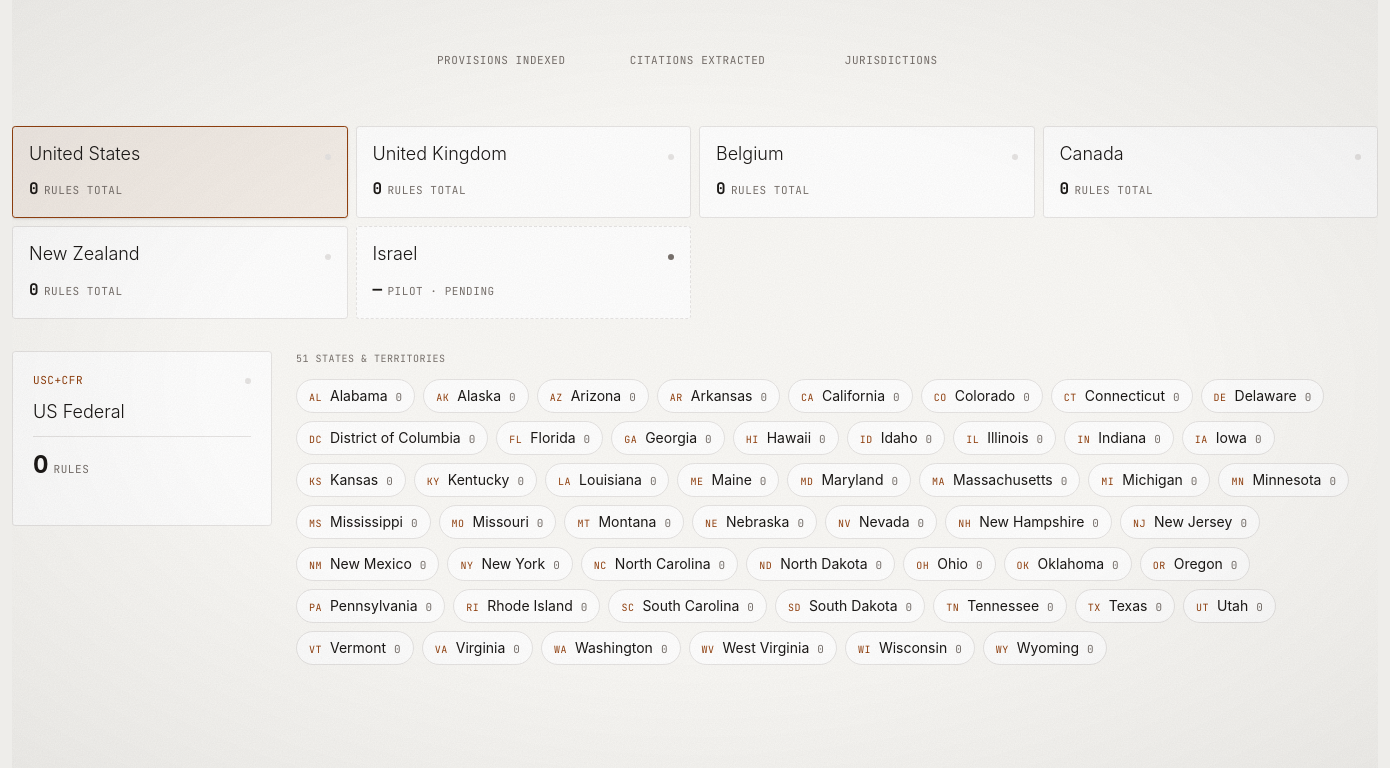
landing presentation for a pilot country without stats › keeps Israel pending while the stats request is still outstanding
The image size is (1390, 768).
Click the tab "Israel — pilot · pending".
click(395, 254)  # box [356,226,691,319]
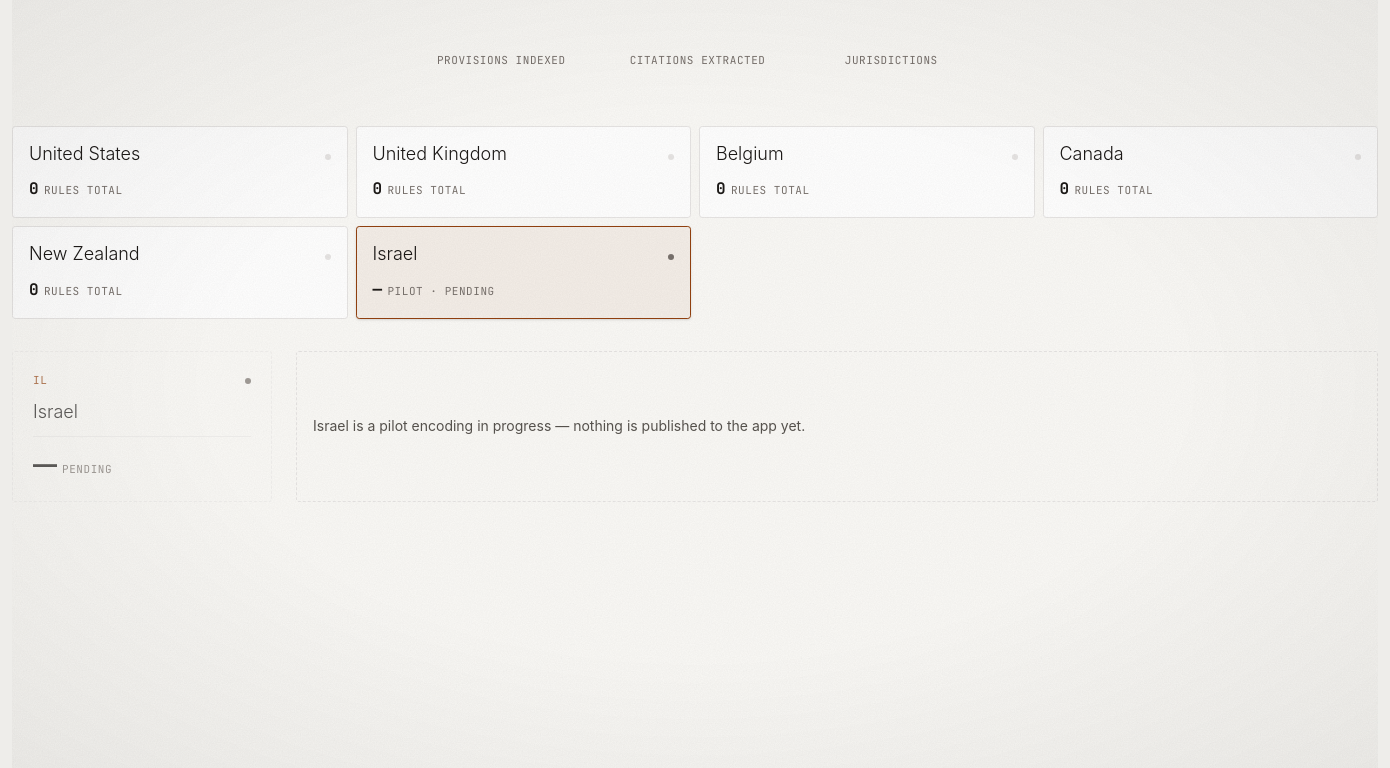
Expected: the tab "United States 0 rules total" does not show "pilot", [12,126,348,218]
Expected: the text "Israel is a pilot encoding in progress — nothing is published to the app yet." is shown, [296,351,1378,502]
Expected: the element titled "Israel — pilot encoding in progress, not yet published to the app" is shown, [12,351,272,502]
